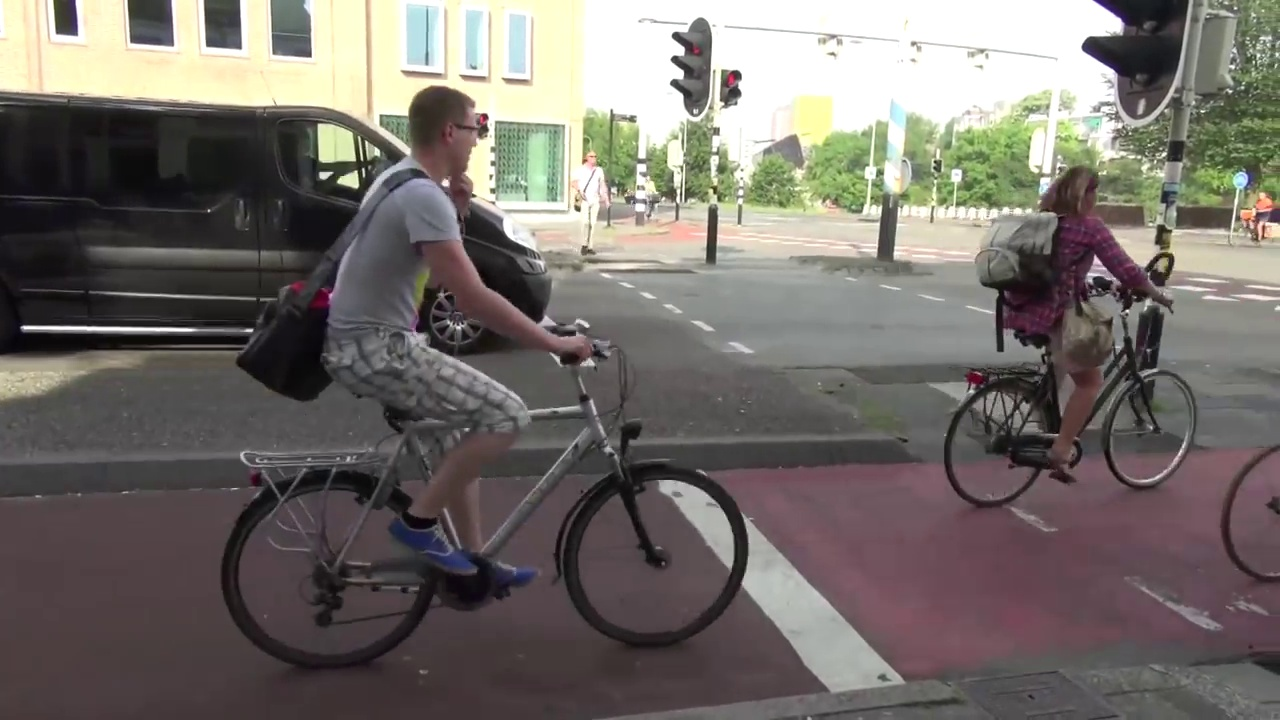cyclist_side: (206, 74, 764, 663), (933, 158, 1202, 508)
